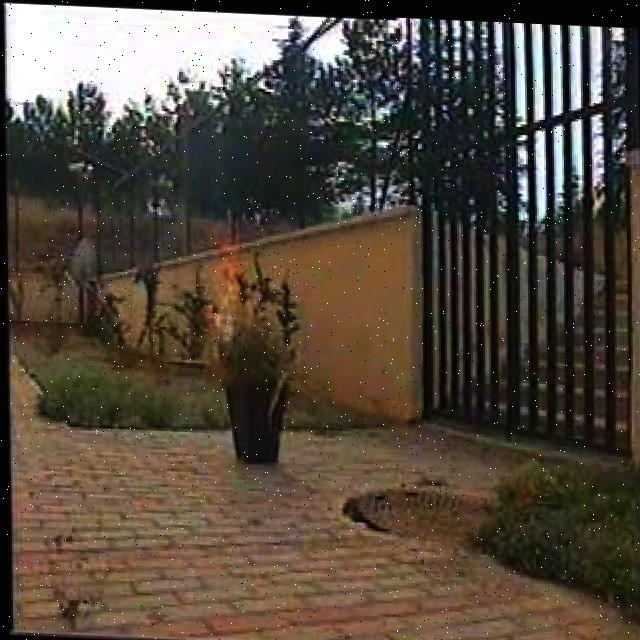Fire: (176, 209, 286, 375)
